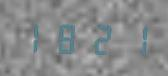eight: (50, 19, 81, 55)
one: (18, 18, 49, 55), (114, 20, 145, 57)
two: (82, 19, 113, 56)
